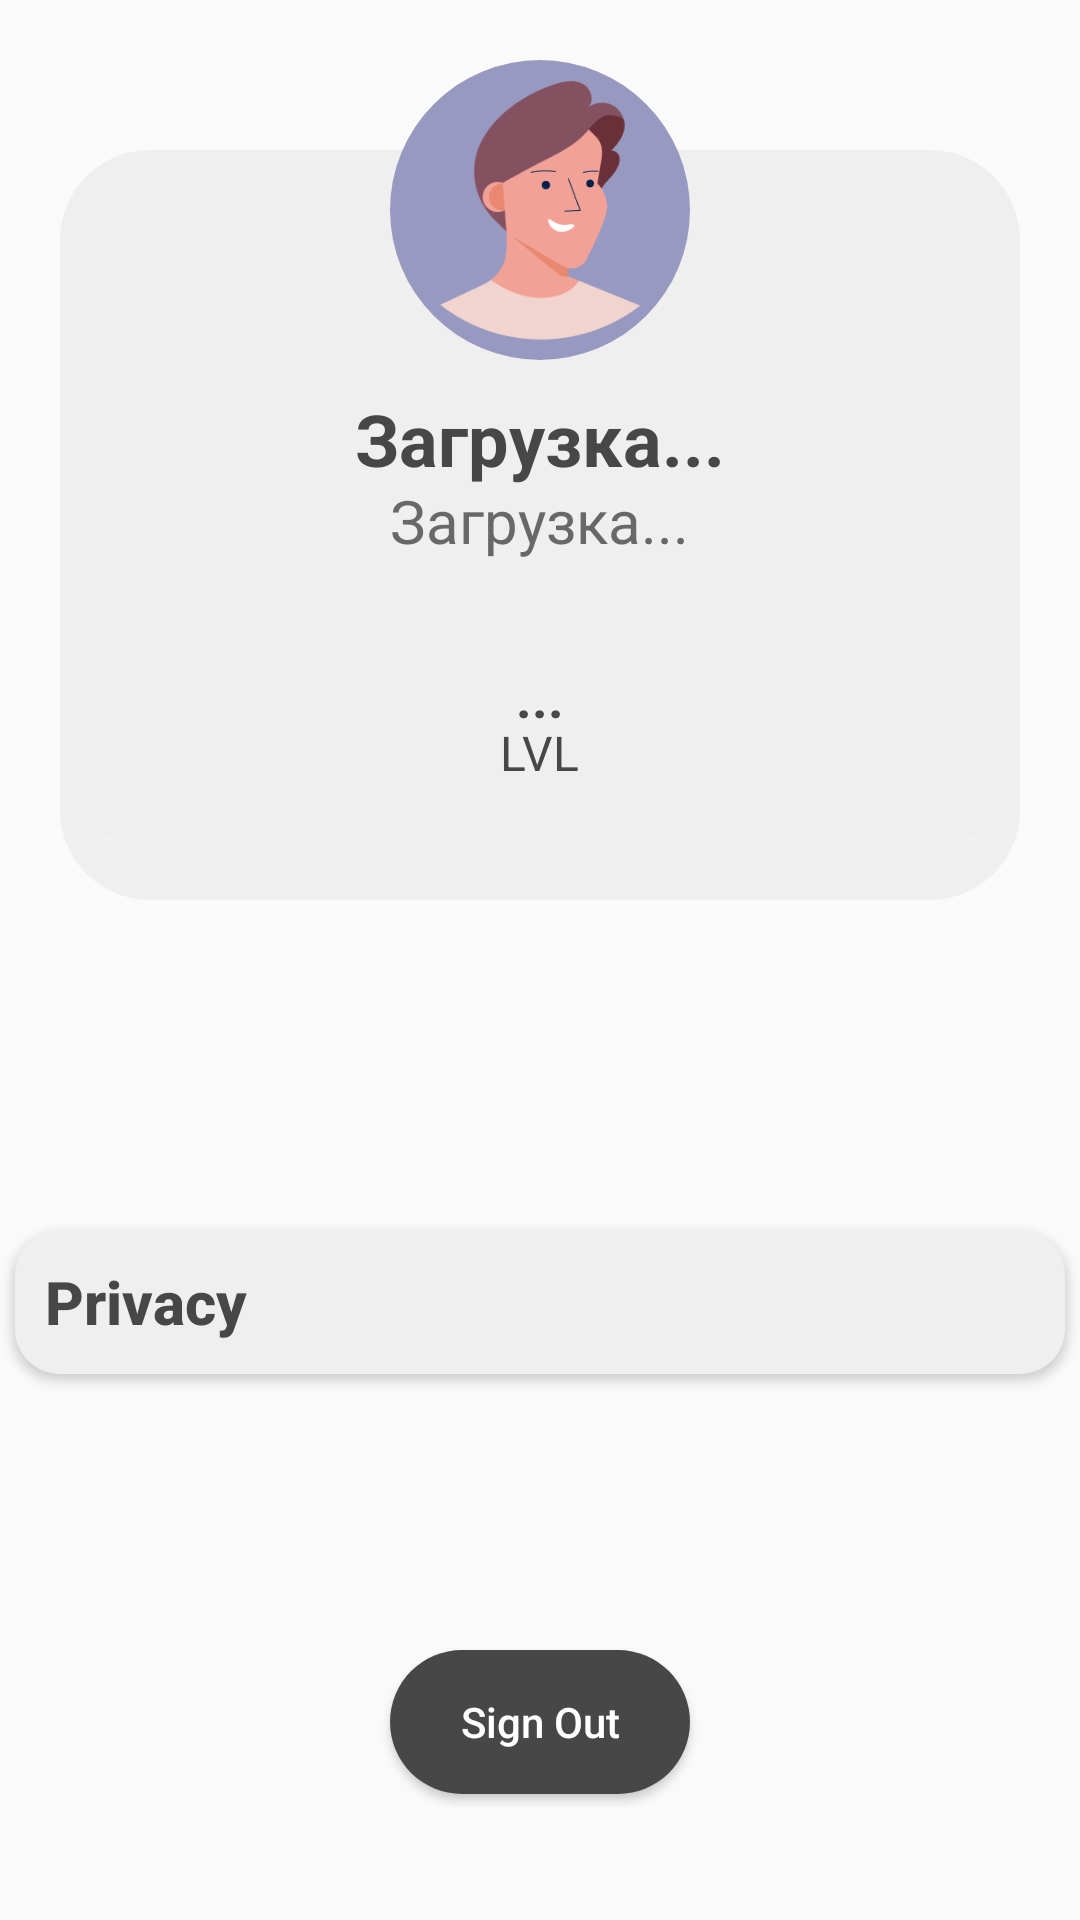

Icons on this 1080px×1920px Android screen, each with the point to tap as point (x, y):
ava: point (540, 210)
